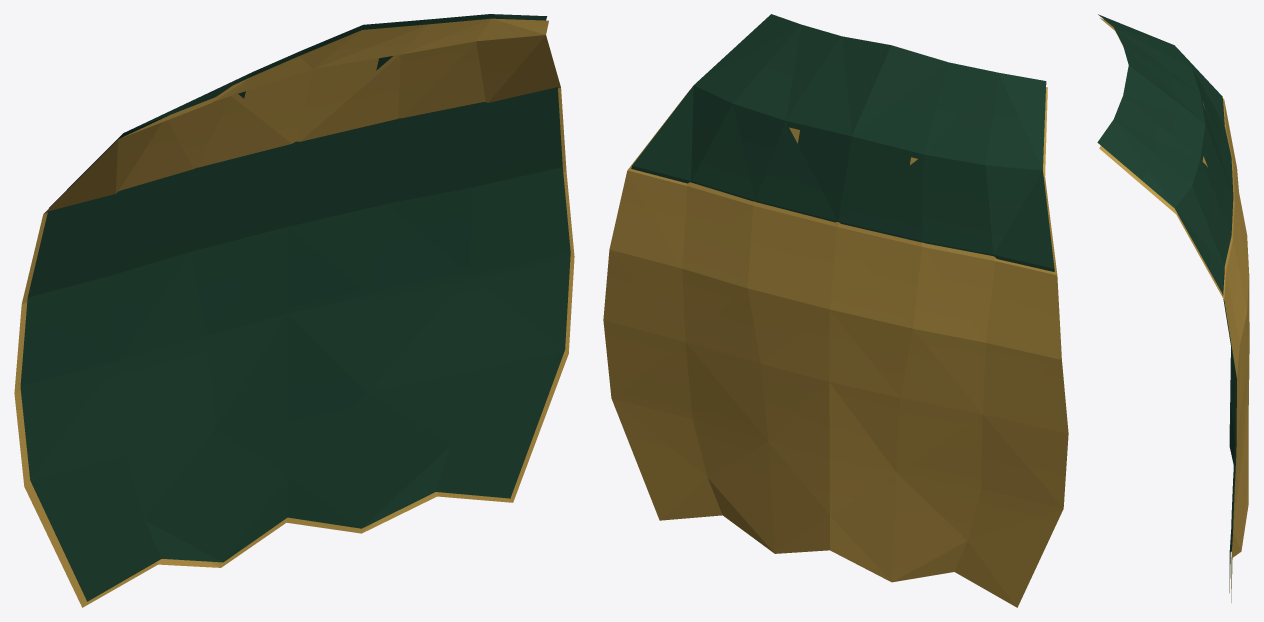
Rendered from rohan_capa_3.glb.
The picture shows the model from 3 angles, left to right: view 1: azimuth 30°, elevation 25°; view 2: azimuth 150°, elevation 25°; view 3: azimuth 270°, elevation 25°; orthographic projection. The views are drawn at different scales.
Visible parts, largest first — view 1: rohan_capa_3; view 2: rohan_capa_3; view 3: rohan_capa_3.
Boxes of the visible parts, x1,y1,x2,y2 form: rohan_capa_3: [14, 14, 574, 607]; rohan_capa_3: [603, 14, 1068, 607]; rohan_capa_3: [1097, 14, 1249, 602].
Bounding box in the file's own units: 1.17 × 1.15 × 0.3466.
Materials: 1 (1 with a texture image).
